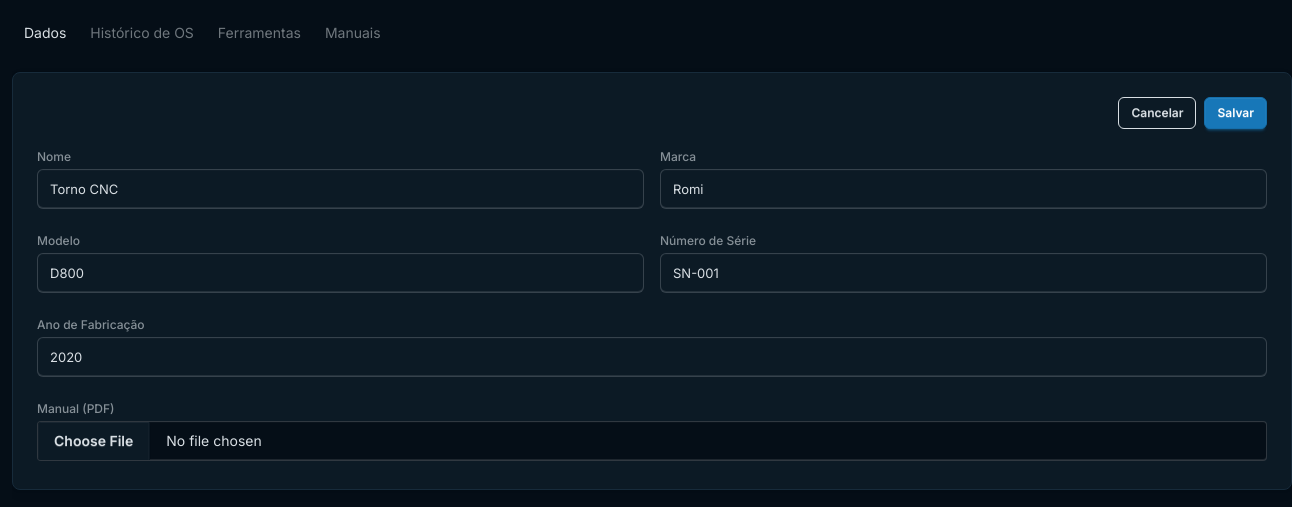
Test: MachineFormPage — Ferramentas tab › renders associated tools list with name, quantity and remove button
The width and height of the screenshot is (1292, 507).
Click the tab "Ferramentas" at (259, 32), box [206,12,313,52]
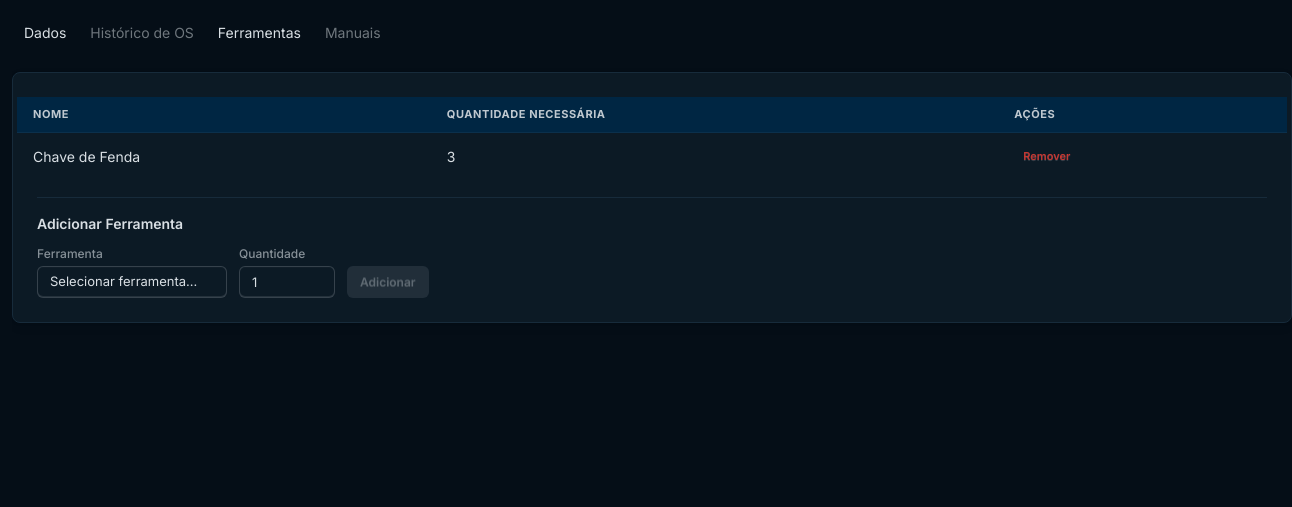
Check: the text "Chave de Fenda" is shown, box [17,132,431,181]
Check: the text "3" is shown, box [431,132,998,181]
Check: the button "Remover" is shown, box [1014,145,1079,169]
